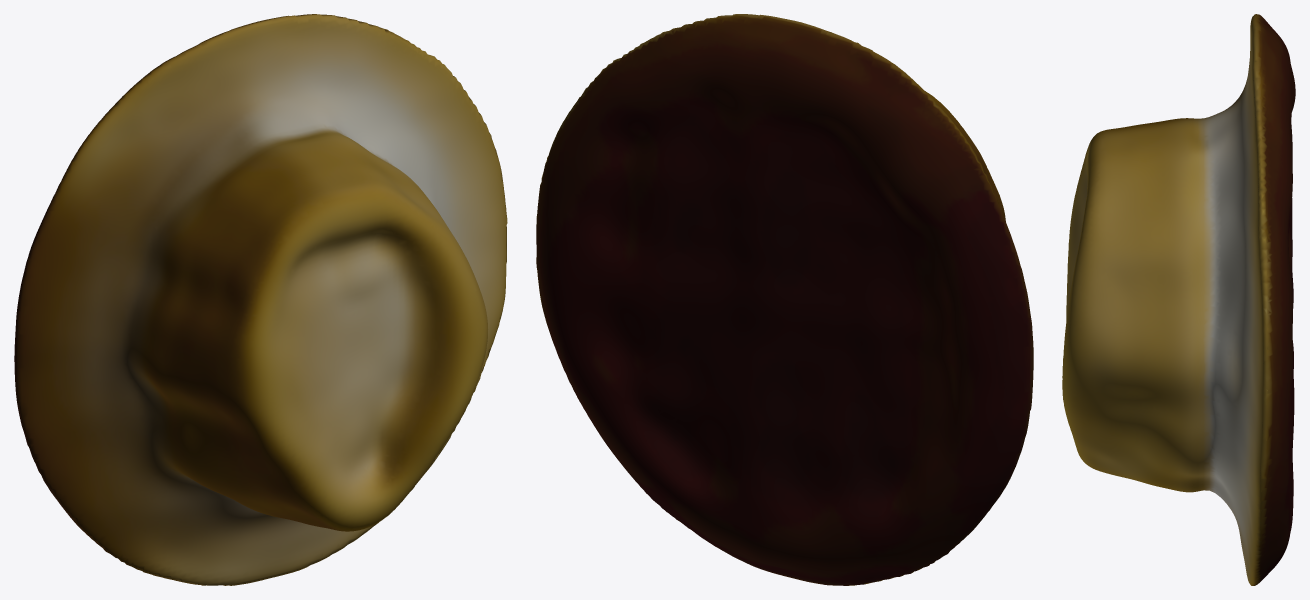
The model's file is hat.glb.
3 views of the same model, side by side, from view 1: azimuth 30°, elevation 25°; view 2: azimuth 150°, elevation 25°; view 3: azimuth 270°, elevation 25° (orthographic). The views are drawn at different scales.
Bounding box in the file's own units: 0.9238 × 0.9967 × 0.4064.
